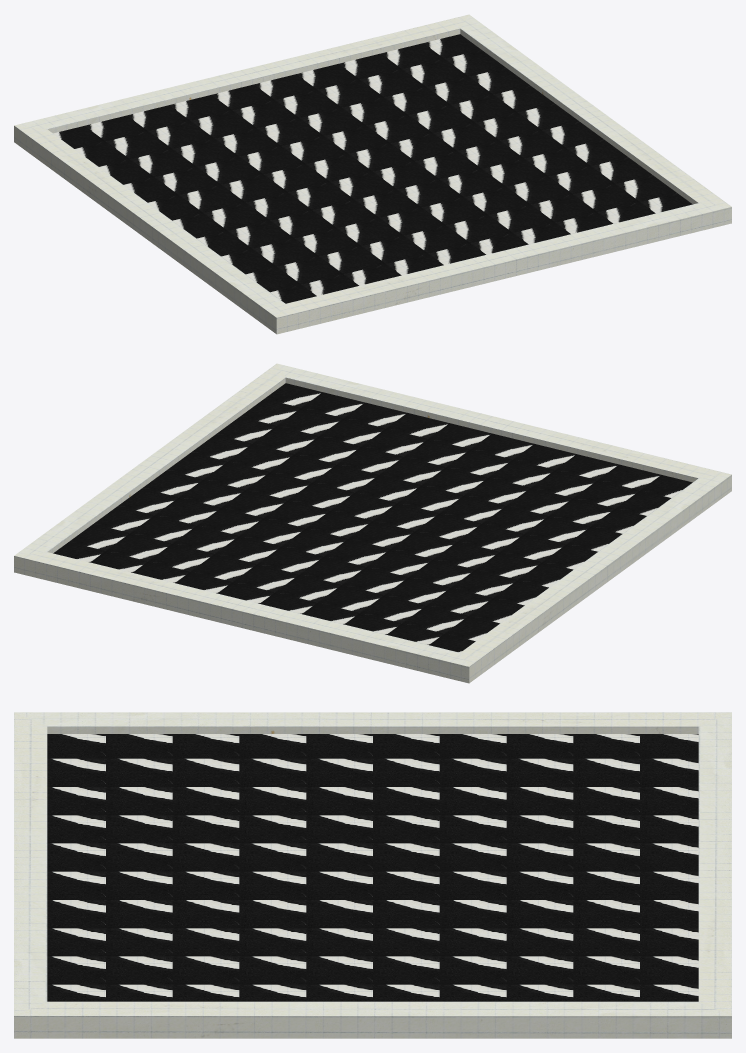
Rendered from buildingroof.fbx.
3 views of the same model, one above another, from view 1: azimuth 30°, elevation 25°; view 2: azimuth 150°, elevation 25°; view 3: azimuth 270°, elevation 25° (orthographic). The views are drawn at different scales.
Parts seen in each view (by area): view 1: Plane; view 2: Plane; view 3: Plane.
Boxes of the visible parts, x1,y1,x2,y2 form: Plane: (14, 14, 731, 334); Plane: (14, 363, 731, 683); Plane: (14, 712, 731, 1038).
Bounding box in the file's own units: 4300 × 150 × 4300.
